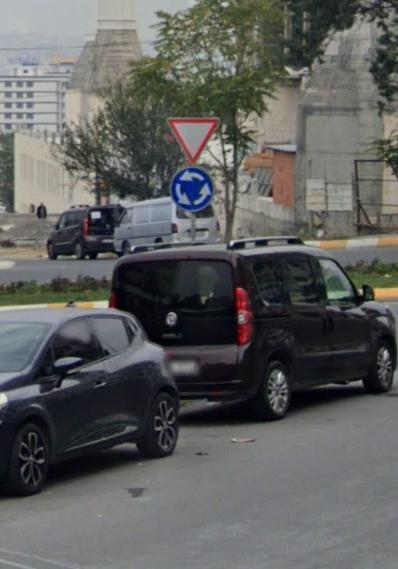crossroads: (170, 169, 214, 209)
